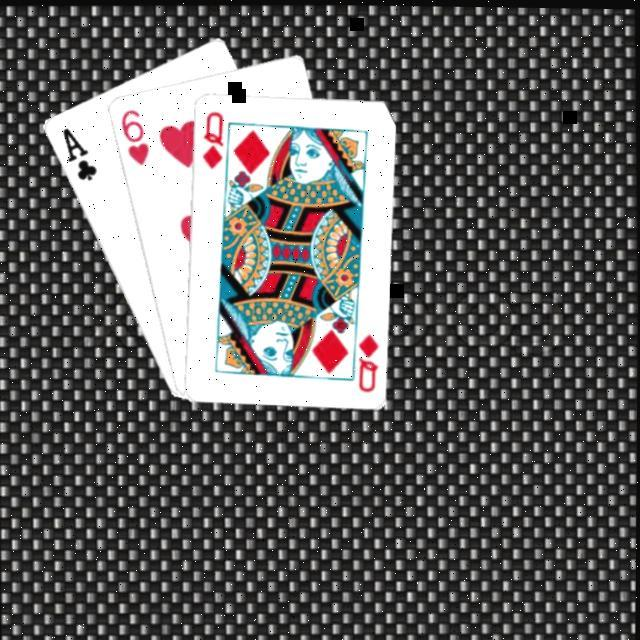6H: (118, 106, 153, 169)
AC: (60, 124, 102, 186)
QD: (355, 330, 384, 394), (199, 109, 228, 172)
